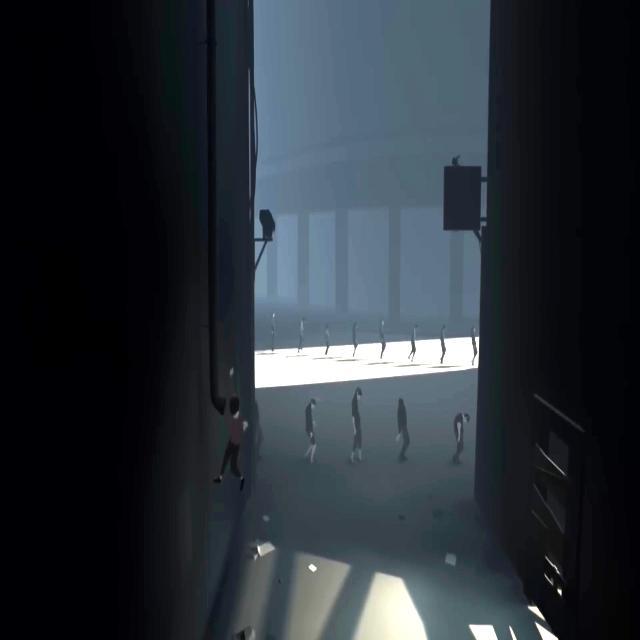boy: (214, 366, 248, 491)
zombie: (452, 413, 470, 464), (350, 388, 362, 463), (396, 398, 410, 460), (304, 398, 317, 463), (297, 315, 307, 353), (408, 324, 418, 362), (269, 312, 276, 351), (439, 325, 446, 364), (380, 319, 386, 358), (472, 327, 478, 365), (352, 321, 358, 357), (324, 324, 330, 355)
